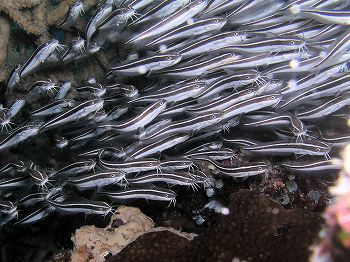gonzui: (114, 47, 182, 74), (70, 172, 124, 189)
